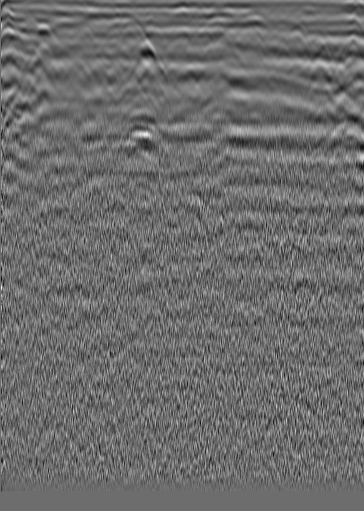가스: (121, 121, 161, 157)
상수: (288, 19, 308, 39)
오수: (32, 22, 52, 42)
우수: (170, 28, 190, 48)
